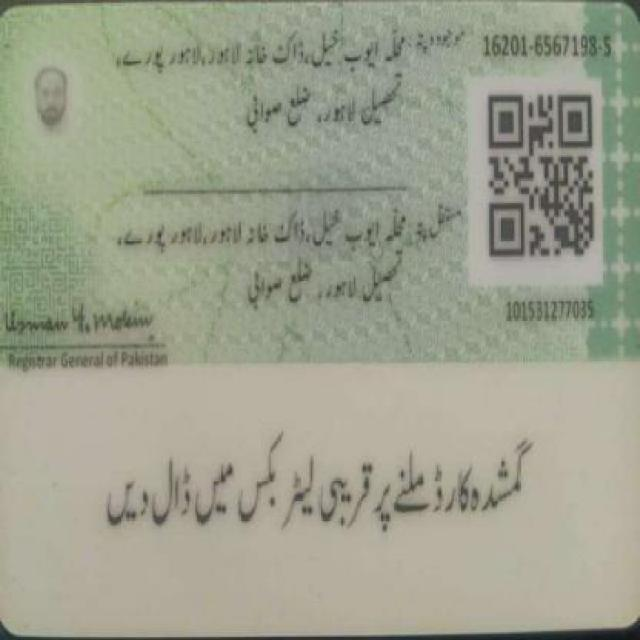Back: (5, 8, 629, 623)
